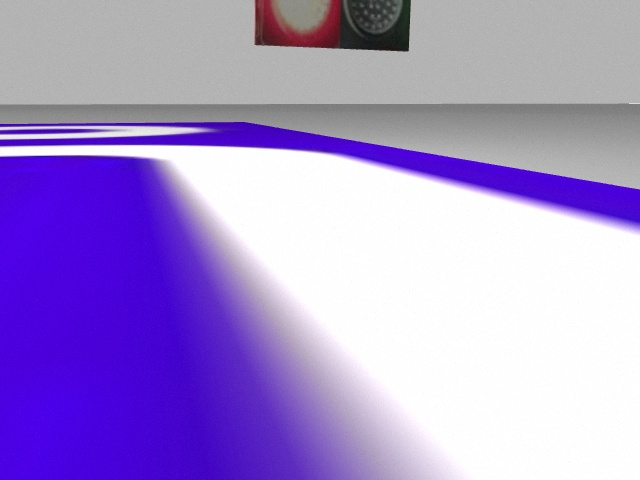red: (256, 1, 341, 50)
